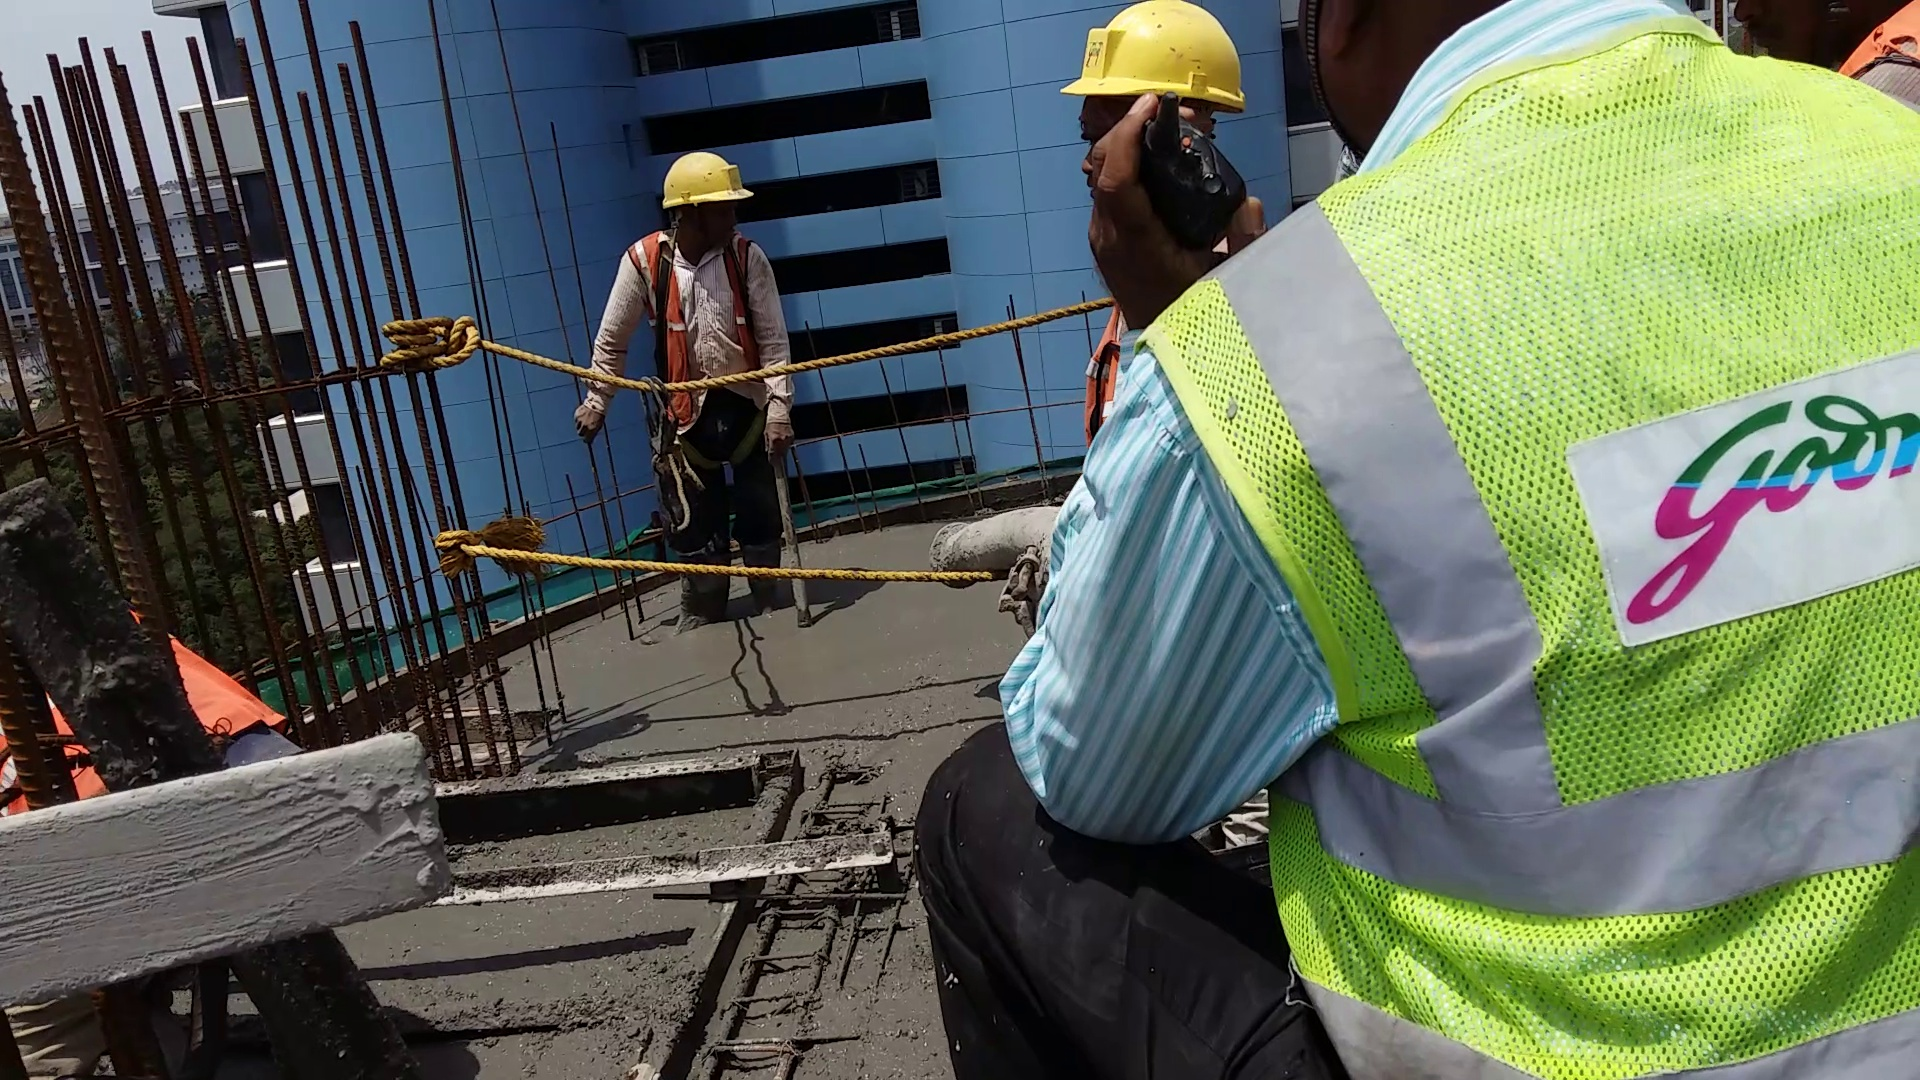NoHardhat: (1174, 22, 1920, 1052)
SAFE: (636, 152, 781, 446)
